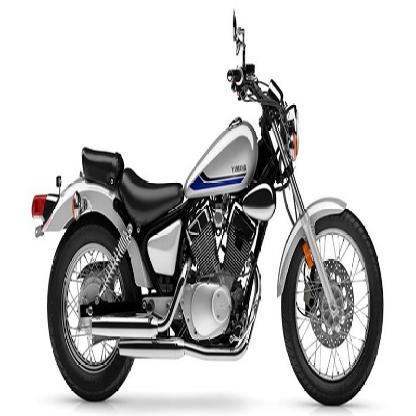Motorcycle: (23, 7, 385, 404)
